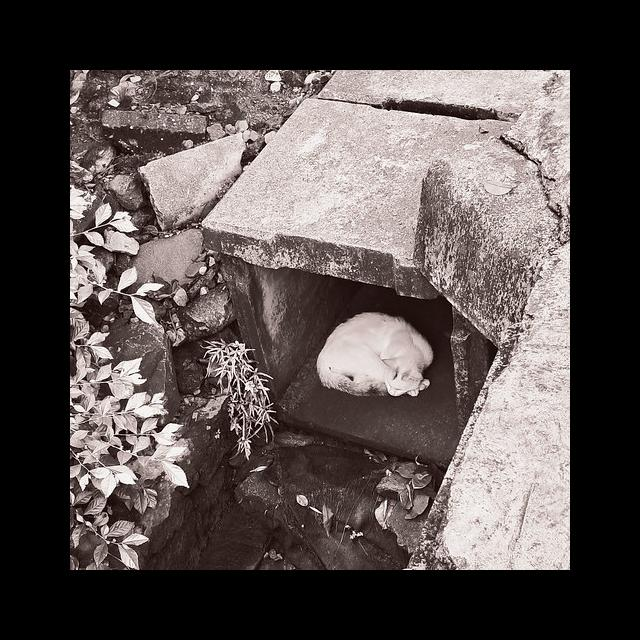animals: (316, 313, 433, 396)
